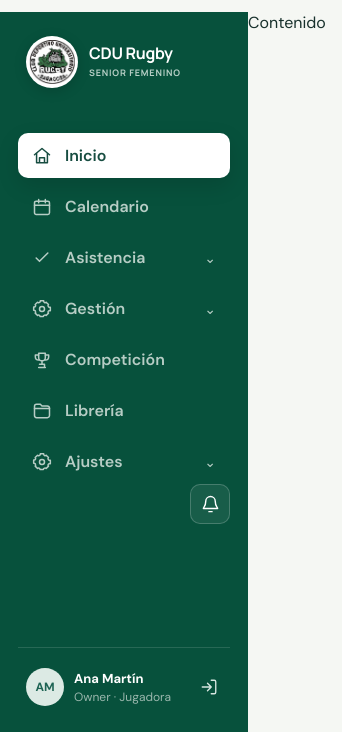
Test: AppLayout › closes an open submenu before navigating to another main option
Click the button "Ajustes ⌄". click: (124, 462)
box: x1=18 y1=439 x2=230 y2=484
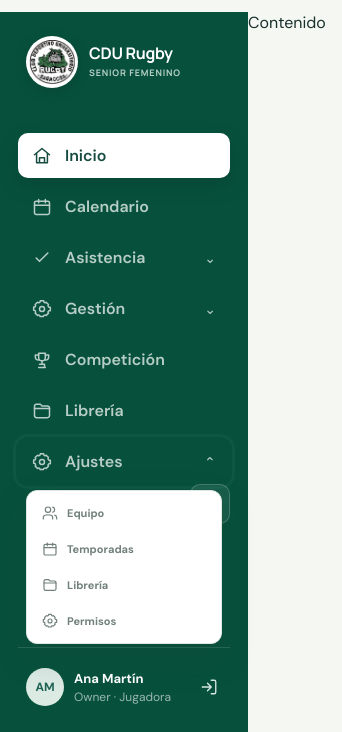
expect the menu is shown: met, box x1=26 y1=490 x2=222 y2=644
Click the button "Calendario". click: (124, 206)
box: x1=18 y1=184 x2=230 y2=229
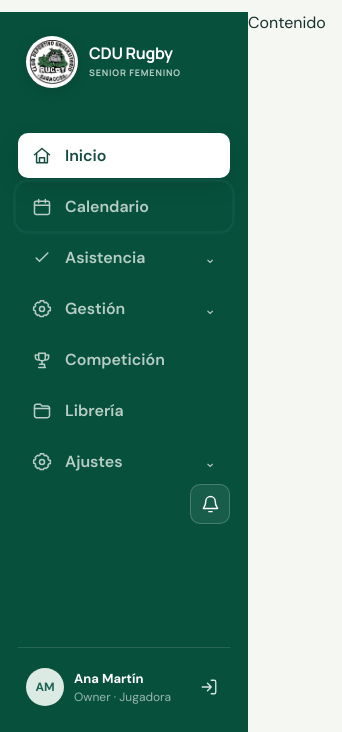
expect the menu is gone: met
